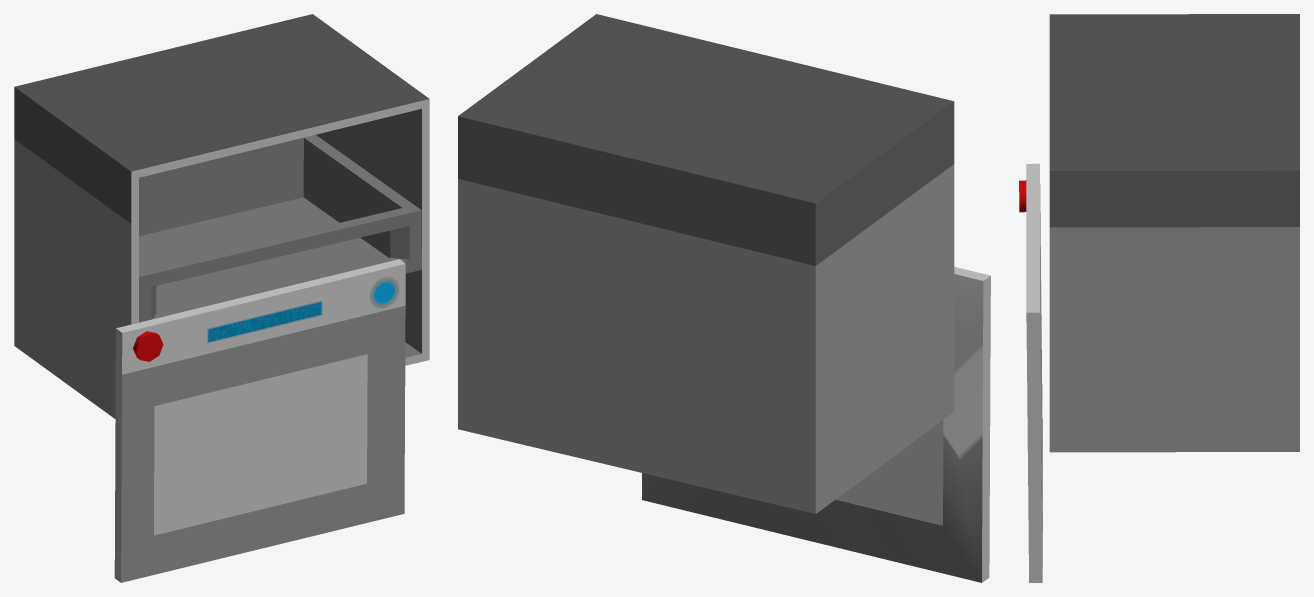
Rendered from Dishwasher_Machine.fbx.
3 renders of one model, left to right at view 1: azimuth 30°, elevation 25°; view 2: azimuth 150°, elevation 25°; view 3: azimuth 270°, elevation 25°, orthographic. The views are drawn at different scales.
Parts seen in each view (by area): view 1: Dishwasher_Machine, Dishwasher_Door; view 2: Dishwasher_Machine, Dishwasher_Door; view 3: Dishwasher_Machine, Dishwasher_Door.
Part boxes in pixels (left/top/right/bottom): Dishwasher_Machine: left=14, top=14, right=429, bottom=418; Dishwasher_Door: left=114, top=259, right=405, bottom=582; Dishwasher_Machine: left=458, top=14, right=954, bottom=513; Dishwasher_Door: left=642, top=266, right=990, bottom=582; Dishwasher_Machine: left=1049, top=14, right=1299, bottom=452; Dishwasher_Door: left=1019, top=163, right=1042, bottom=582.
Bounding box in the file's own units: 107 × 128 × 75.69.
